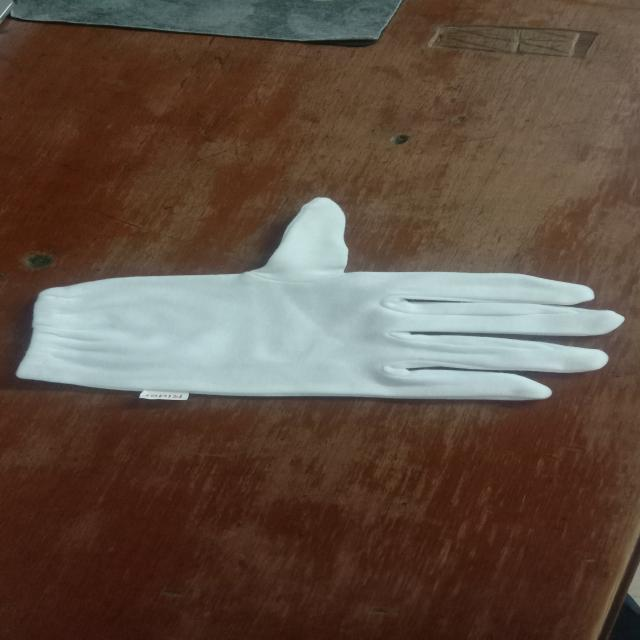glove_hand: (10, 194, 623, 408)
